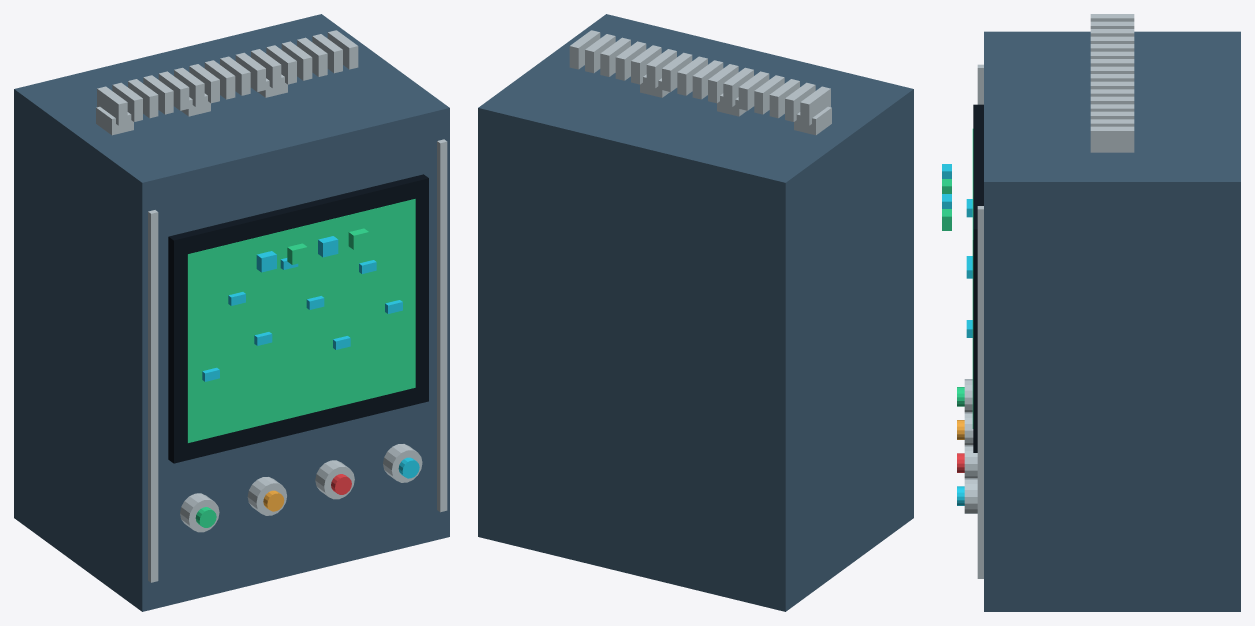
The model's file is 54_L79_ChipletInterconnectRoutingTester.fbx.
3 renders of one model, left to right at view 1: azimuth 30°, elevation 25°; view 2: azimuth 150°, elevation 25°; view 3: azimuth 270°, elevation 25°, orthographic.
Visible parts, largest first — view 1: ChipletInterconnectRoutingTester; view 2: ChipletInterconnectRoutingTester; view 3: ChipletInterconnectRoutingTester.
Part boxes in pixels (bbox=[...]): ChipletInterconnectRoutingTester: bbox=[14, 14, 449, 611]; ChipletInterconnectRoutingTester: bbox=[478, 14, 913, 611]; ChipletInterconnectRoutingTester: bbox=[942, 14, 1240, 611].
Bounding box in the file's own units: 90 × 129 × 75.6.
